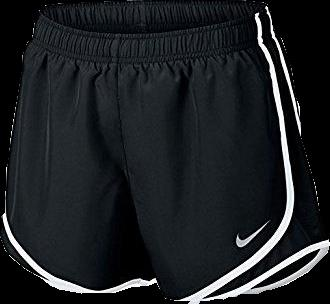Hemline: (0, 225, 156, 295), (155, 241, 329, 302)
Pantleg: (116, 0, 329, 303), (1, 0, 156, 292)
Waistline: (31, 32, 277, 63), (38, 5, 269, 38)
